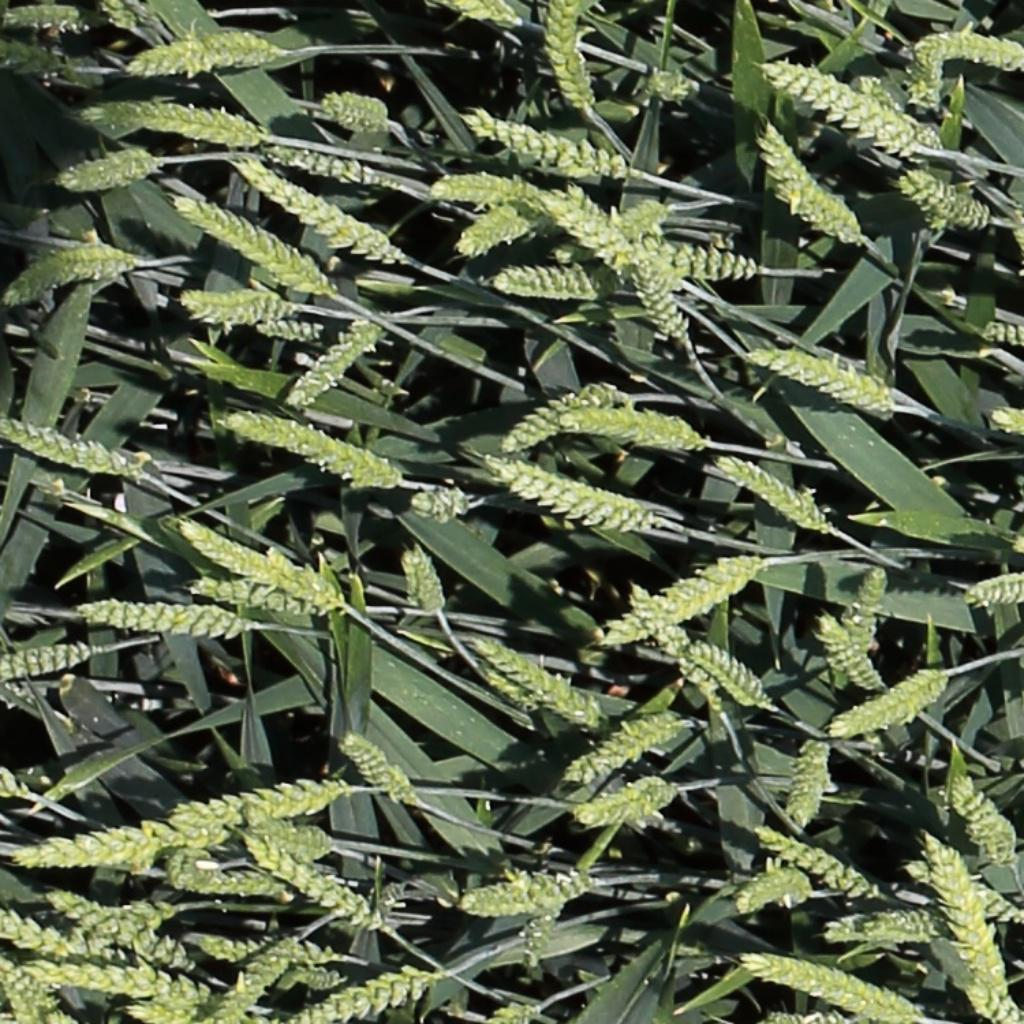0-0: (925, 831, 1024, 1021), (237, 158, 407, 268), (176, 520, 346, 610), (598, 557, 764, 646), (222, 413, 404, 493), (173, 193, 319, 290), (761, 64, 928, 143), (45, 885, 199, 970), (755, 117, 858, 243), (742, 953, 923, 1024), (487, 458, 658, 532), (241, 842, 379, 933), (625, 583, 725, 703), (469, 637, 596, 729), (12, 815, 232, 868), (163, 775, 351, 835), (465, 110, 623, 176), (26, 958, 202, 1012), (83, 99, 267, 150), (2, 241, 138, 310), (749, 346, 894, 410), (202, 935, 306, 1024), (899, 849, 1024, 922), (285, 320, 388, 408), (285, 964, 433, 1024), (850, 72, 934, 176), (753, 828, 875, 899), (716, 457, 826, 532), (562, 712, 678, 783), (550, 200, 671, 267), (458, 864, 598, 919), (73, 599, 254, 640), (124, 29, 277, 77), (1, 419, 132, 475), (537, 191, 633, 267), (56, 896, 180, 954), (518, 868, 586, 968), (502, 385, 615, 445), (832, 673, 943, 733), (946, 774, 1017, 864), (263, 143, 398, 189), (337, 734, 419, 808), (625, 251, 688, 344), (185, 932, 345, 968), (819, 905, 940, 952), (812, 614, 882, 694), (686, 644, 770, 709), (0, 957, 79, 1023), (902, 169, 988, 228), (544, 4, 588, 116), (625, 241, 755, 278), (918, 30, 1024, 75), (171, 290, 298, 327), (158, 859, 281, 897), (0, 896, 72, 960), (192, 581, 316, 618), (841, 561, 887, 659), (55, 148, 155, 192), (783, 733, 830, 826), (566, 412, 697, 445), (426, 173, 544, 209), (485, 267, 603, 301), (576, 786, 674, 824), (454, 207, 524, 259), (243, 820, 331, 860), (315, 91, 391, 133), (405, 542, 443, 621), (1, 645, 94, 677), (733, 875, 808, 913), (409, 482, 471, 524), (479, 667, 536, 712), (0, 38, 67, 73), (123, 997, 198, 1023), (5, 2, 83, 26), (910, 63, 948, 112), (965, 572, 1023, 603), (96, 0, 137, 35), (252, 320, 322, 338), (460, 1, 513, 24), (645, 72, 694, 95), (487, 1004, 539, 1024), (981, 320, 1024, 344), (992, 409, 1024, 434)
